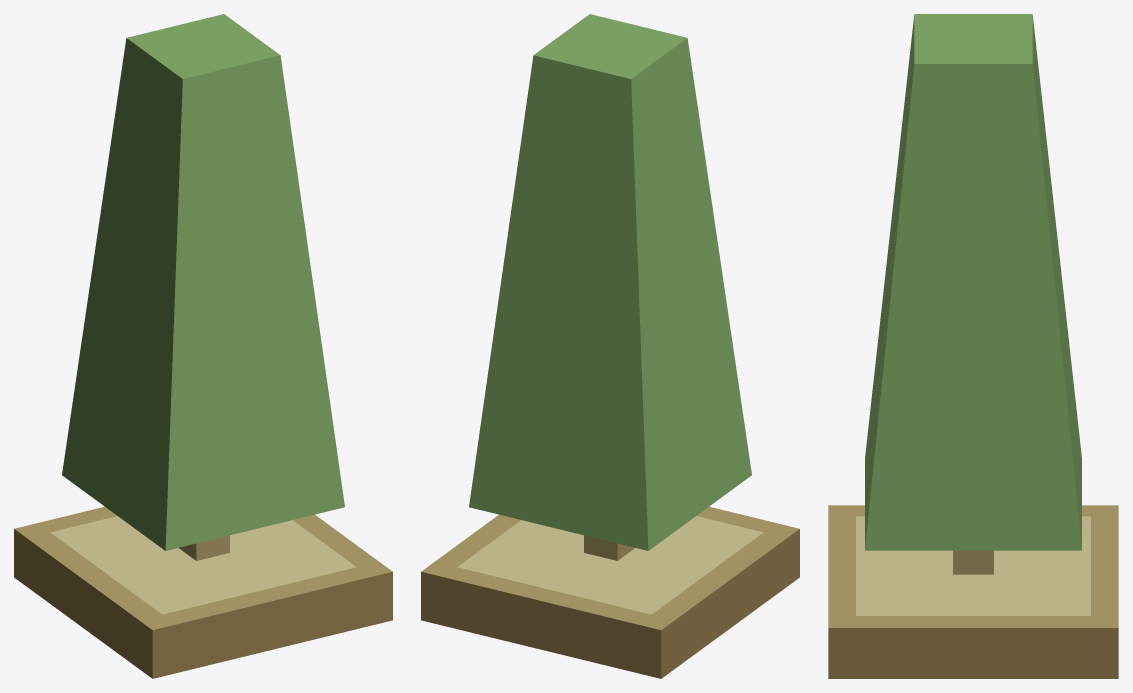
File: vegetation_002.fbx
The picture shows the model from 3 angles, left to right: view 1: azimuth 30°, elevation 25°; view 2: azimuth 150°, elevation 25°; view 3: azimuth 270°, elevation 25°; orthographic projection. The views are drawn at different scales.
Visible parts, largest first — view 1: vegetation_002; view 2: vegetation_002; view 3: vegetation_002.
Boxes of the visible parts, box(x1,y1,x2,y2) form: vegetation_002: box(14, 14, 392, 678); vegetation_002: box(421, 14, 799, 678); vegetation_002: box(828, 14, 1118, 678).
Bounding box in the file's own units: 106 × 232 × 106.
